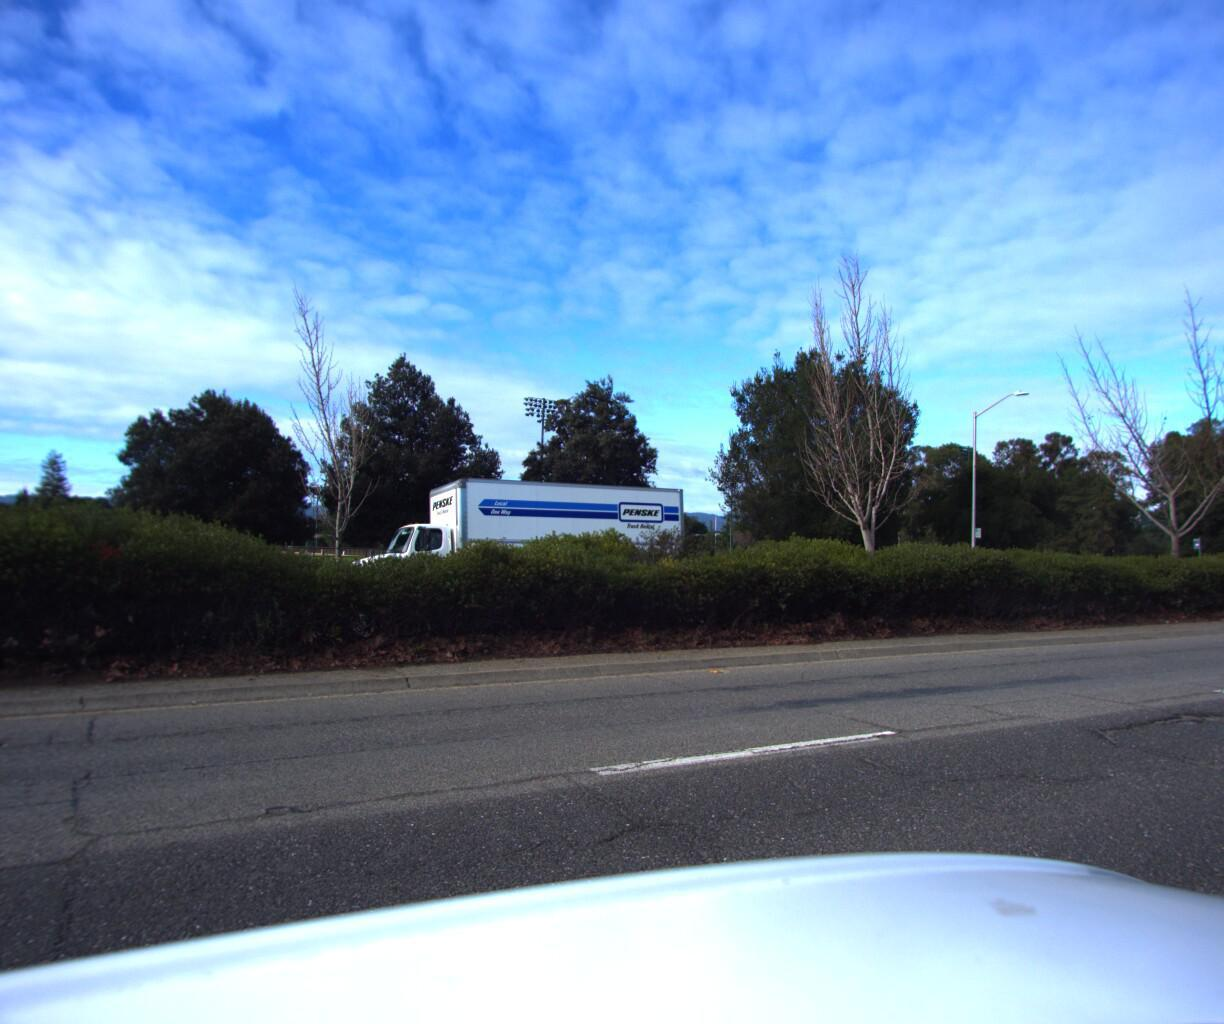truck: (326, 444, 697, 630)
